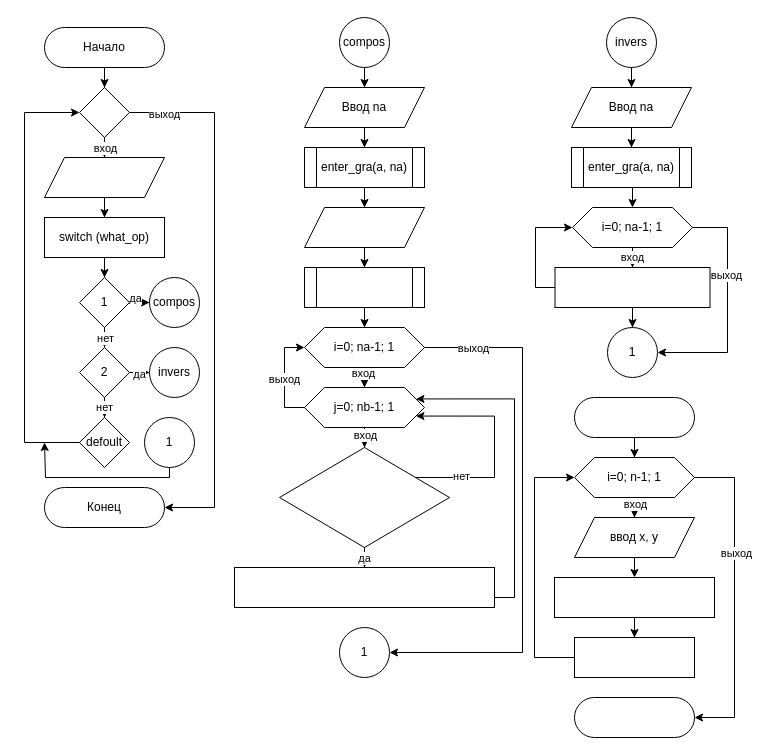
Image size: 769x755. Some labels were removed from this diagram. The box of each missing label's shape, as (x1, y1, x2, y2) in pixels:
cin: (78, 86, 130, 138)
enter_gra(*gra, n): (574, 396, 694, 438)
enter_gra(b, nb): (304, 266, 424, 308)
i++: (574, 636, 694, 678)
return: (574, 696, 694, 738)
swap(a[i].first, a[i].second);: (554, 266, 710, 308)
Ввод nb: (304, 206, 424, 248)
Ввод what_op: (44, 156, 164, 198)
Второй эл-т пары a[i] = первый эл-т пары b[i]: (278, 446, 450, 548)
добавить в график comp пару первый эл-т пары a[i] = второй эл-т пары b[i]: (234, 566, 494, 608)
добавляю gra[i] пару x, y: (554, 576, 714, 618)
